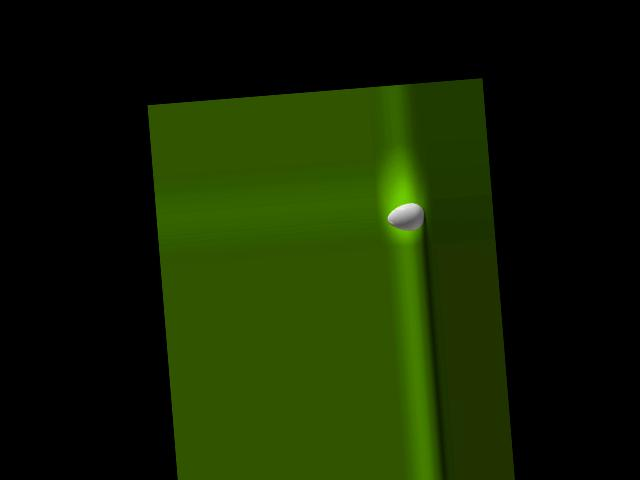egg: (386, 202, 425, 232)
